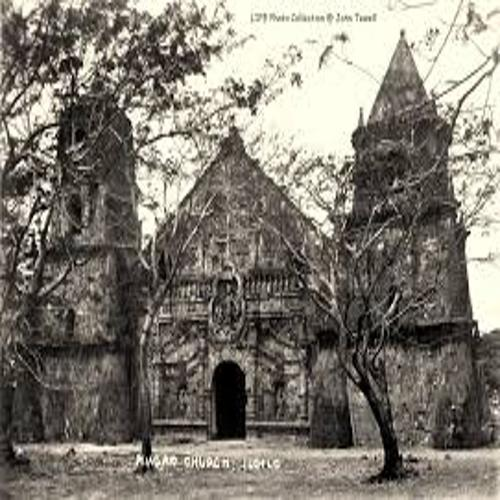Miagao Church: (34, 23, 478, 454)
